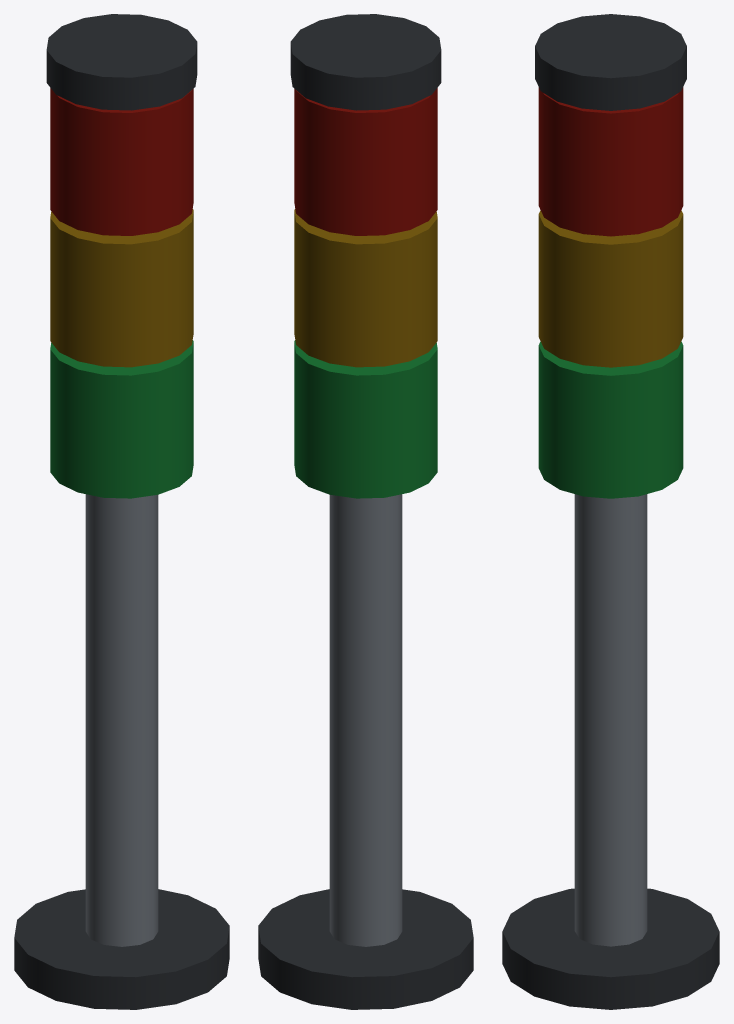
File: stack_light.glb
3 renders of one model, left to right at view 1: azimuth 30°, elevation 25°; view 2: azimuth 150°, elevation 25°; view 3: azimuth 270°, elevation 25°, orthographic.
Parts seen in each view (by area): view 1: Stack_Static, Lamp_Yellow, Lamp_Green, Lamp_Red; view 2: Stack_Static, Lamp_Yellow, Lamp_Green, Lamp_Red; view 3: Stack_Static, Lamp_Yellow, Lamp_Green, Lamp_Red.
Boxes of the visible parts, box(x1,y1,x2,y2) form: Stack_Static: box(14, 14, 229, 1009); Lamp_Yellow: box(50, 209, 193, 367); Lamp_Green: box(50, 340, 193, 498); Lamp_Red: box(50, 88, 193, 235); Stack_Static: box(258, 14, 473, 1009); Lamp_Yellow: box(294, 209, 437, 367); Lamp_Green: box(294, 340, 437, 498); Lamp_Red: box(294, 88, 437, 235); Stack_Static: box(502, 14, 719, 1009); Lamp_Yellow: box(538, 210, 683, 367); Lamp_Green: box(538, 341, 683, 498); Lamp_Red: box(538, 87, 683, 236).
Size of the model in its own units: 0.12 by 0.56 by 0.12.
